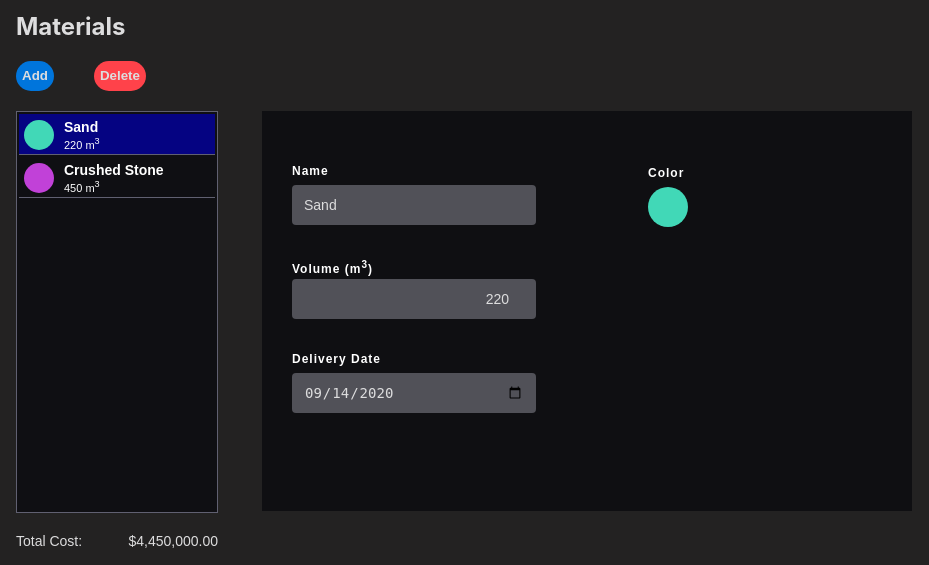
Test case: Cesium Material Form › After Loading › creates a new material record and makes it the active selection when clicking add button
Click the button with test id "material-tool-add-btn": (35, 76) [16, 61, 54, 91]
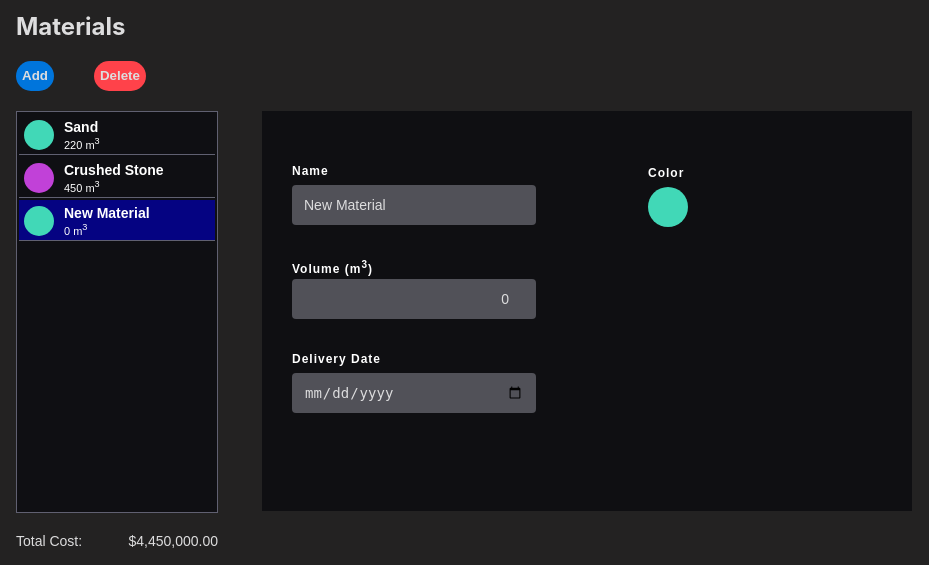
Now the number of rows with test id "material-table-row-unit-test-uuid" is 1, box [19, 200, 215, 241]
